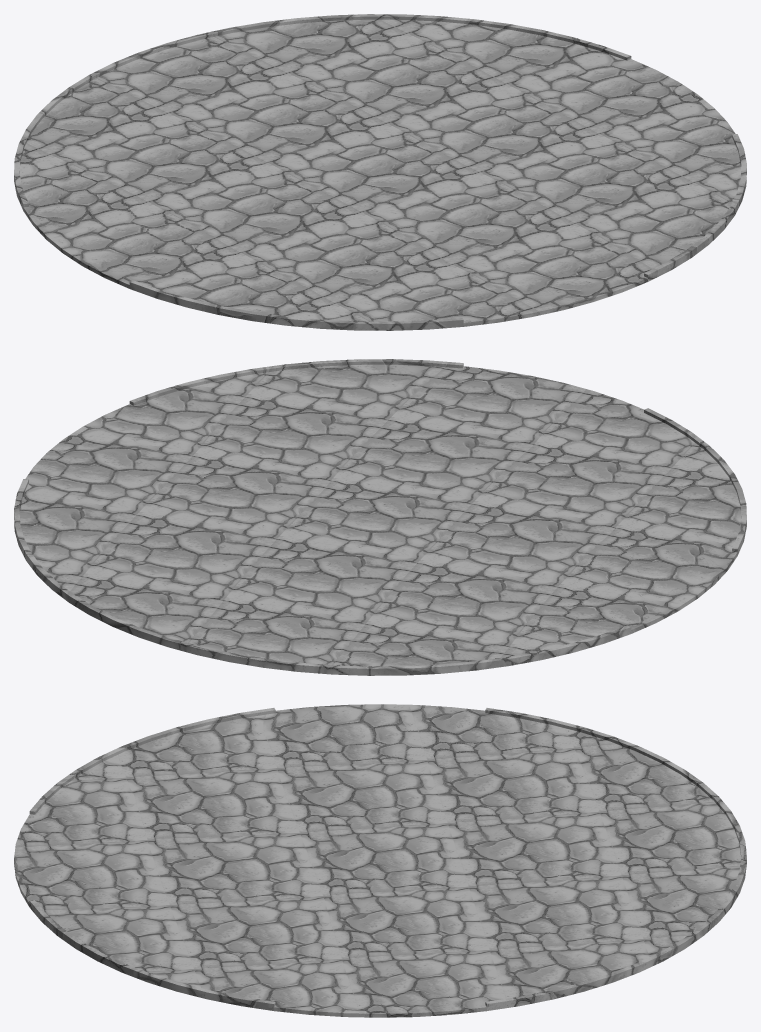
Rendered from Centro Piso .fbx.
3 views of the same model, one above another, from view 1: azimuth 30°, elevation 25°; view 2: azimuth 150°, elevation 25°; view 3: azimuth 270°, elevation 25° (orthographic).
Visible parts, largest first — view 1: Street Center Ref.001; view 2: Street Center Ref.001; view 3: Street Center Ref.001.
Boxes of the visible parts, x1,y1,x2,y2 form: Street Center Ref.001: (14,14,746,330); Street Center Ref.001: (14,359,746,675); Street Center Ref.001: (14,704,746,1017).
Bounding box in the file's own units: 2127 × 22.32 × 2127.
